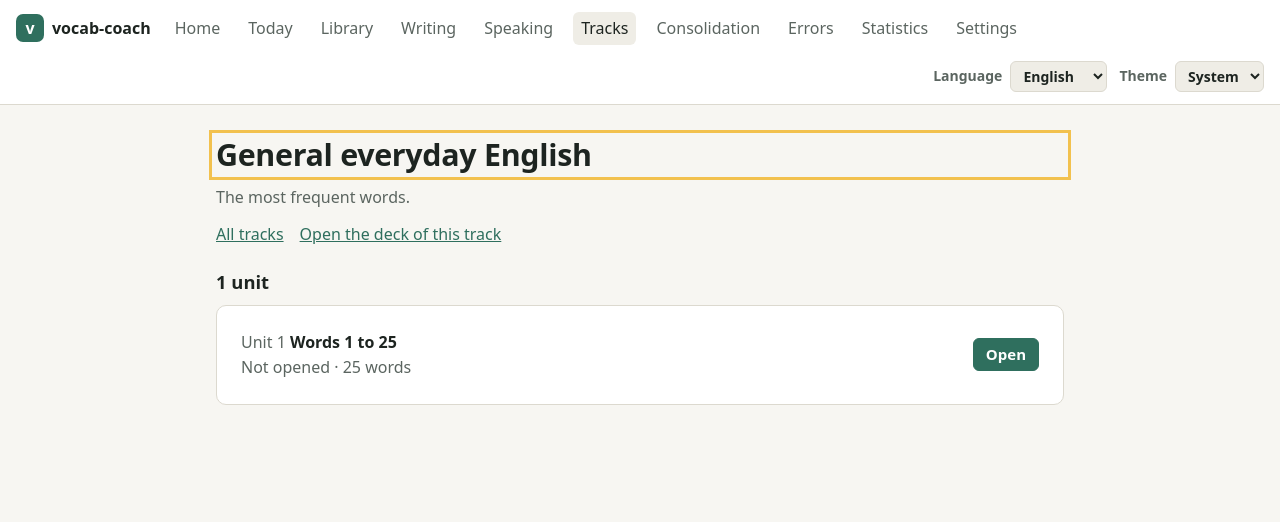
Scenario: /curriculum/:code › opens a word unit once, goes to its page and links to the triage of its deck
This screenshot has width=1280, height=522.
Check: the text "Not opened · 25 words" is shown, box [241, 356, 411, 378]
Click the button with aria-label "Open unit 1" at coordinates (1006, 355), box [973, 338, 1039, 371]
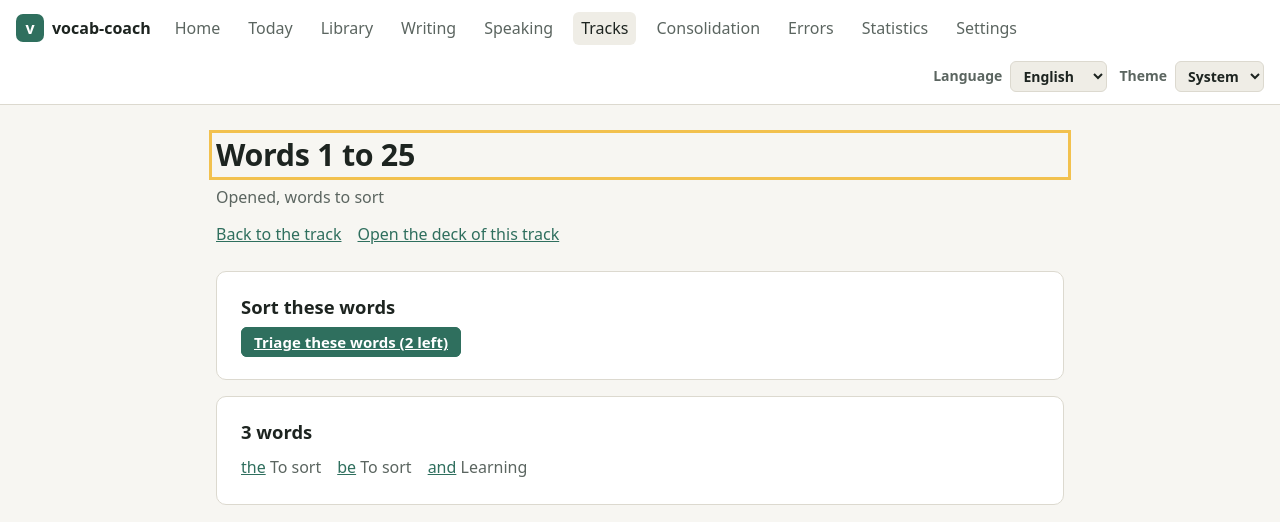
Check: the text "Learning" is shown, box [460, 456, 527, 478]
// Back on the track, the unit is a link: opening it again writes nothing.
Click the link "Back to the track" at coordinates (279, 234), box [216, 222, 342, 247]
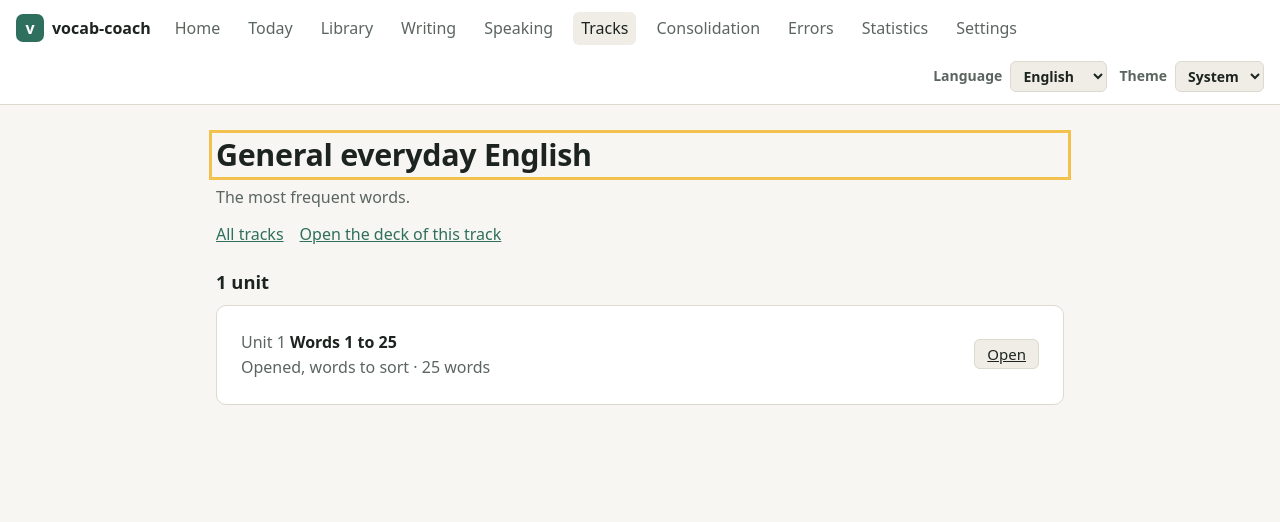
Click the link with aria-label "Open unit 1" at coordinates (1007, 354), box [974, 339, 1039, 369]
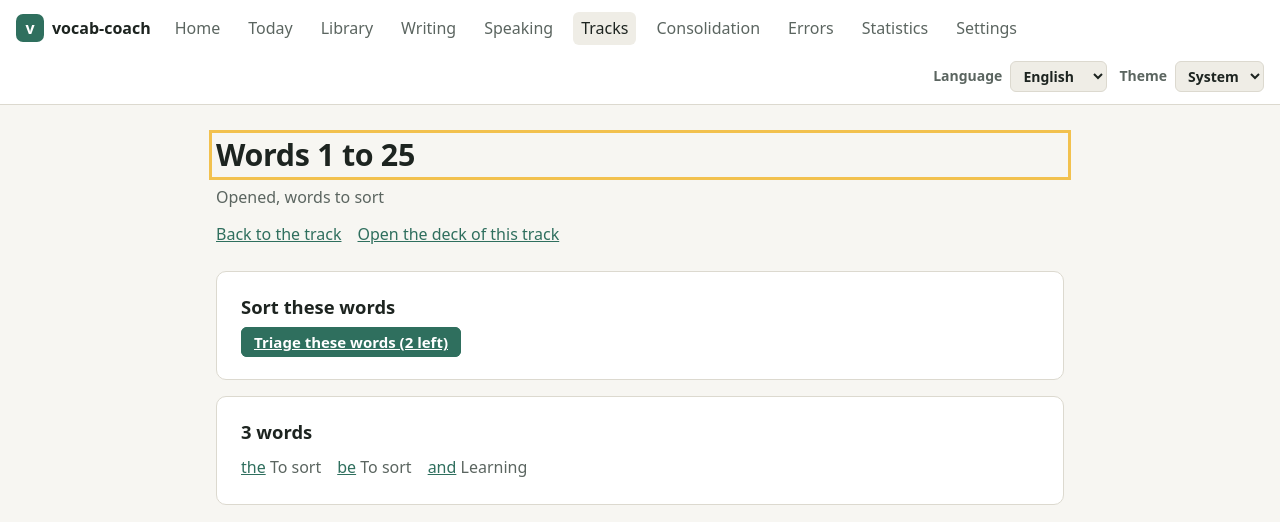
Check: the heading "Words 1 to 25" is shown, box [216, 134, 415, 175]
